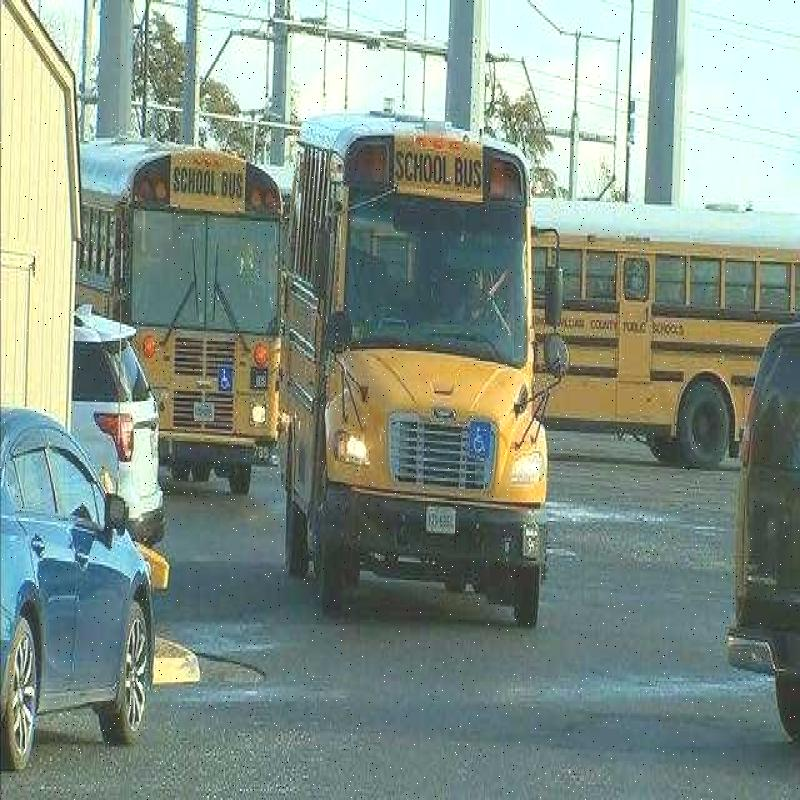bus: (284, 106, 560, 649), (78, 108, 292, 515)
